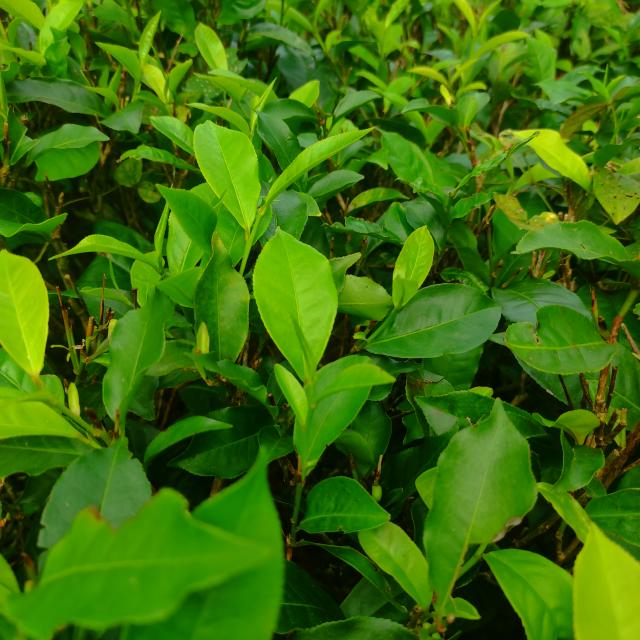unopened_leaf: (281, 306, 327, 403)
